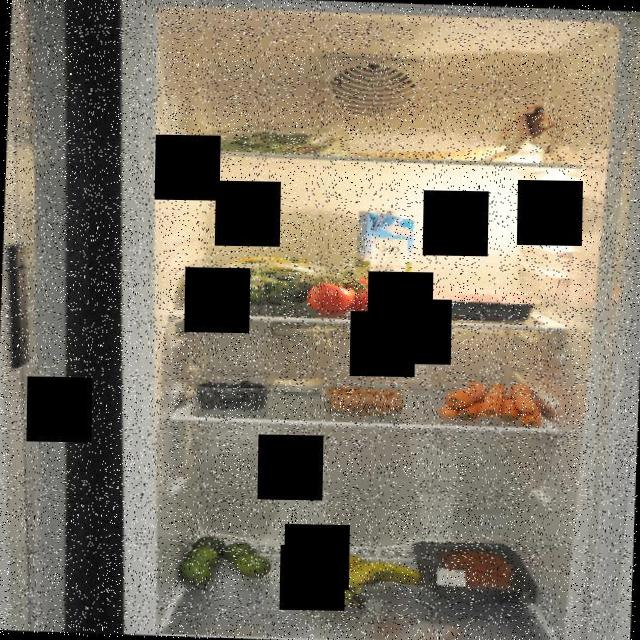Carne vacuno: (407, 539, 537, 605)
Gambas/Langostinos: (321, 383, 412, 418)
Leche: (350, 206, 420, 302)
Plátano: (296, 552, 430, 612)
Tomate: (302, 274, 428, 320)
Zanahoria: (430, 378, 550, 429)
